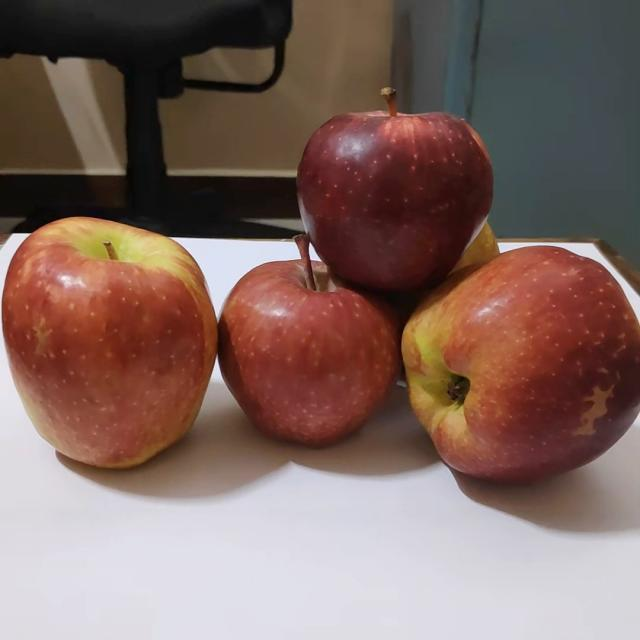apple: (389, 240, 640, 482), (1, 206, 214, 475), (287, 79, 501, 292), (214, 225, 406, 446), (432, 205, 507, 278)
